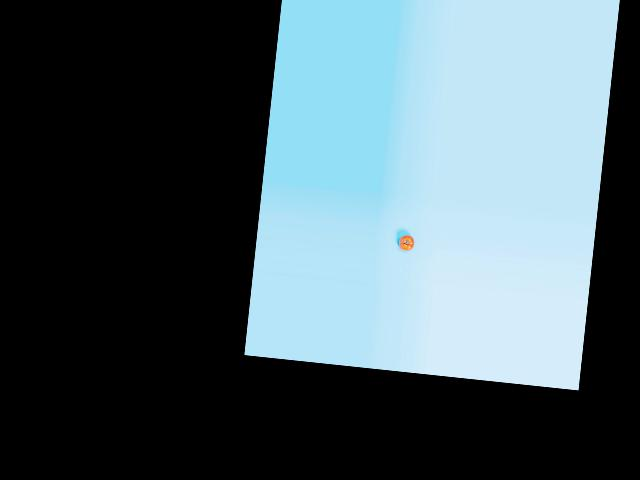tomato: (398, 233, 415, 251)
